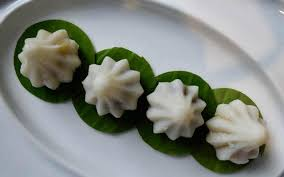modak: (203, 95, 270, 164), (17, 29, 86, 91), (83, 54, 145, 118), (151, 80, 206, 143)
